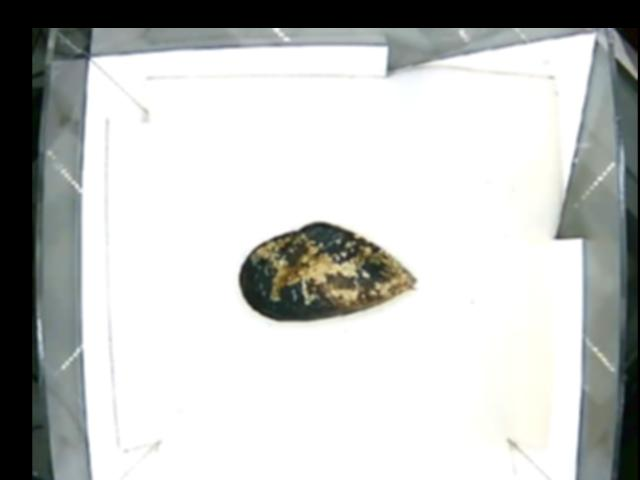Shell: (237, 219, 418, 322)
